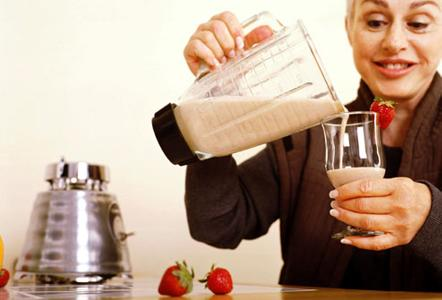person: (183, 1, 441, 293)
